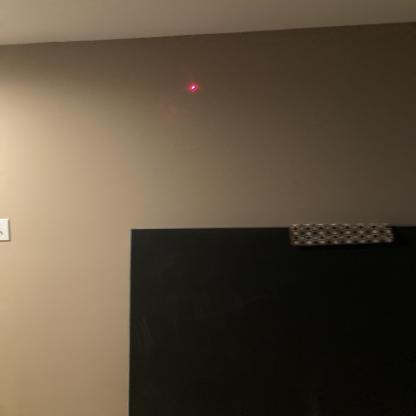target: (192, 81, 198, 93)
